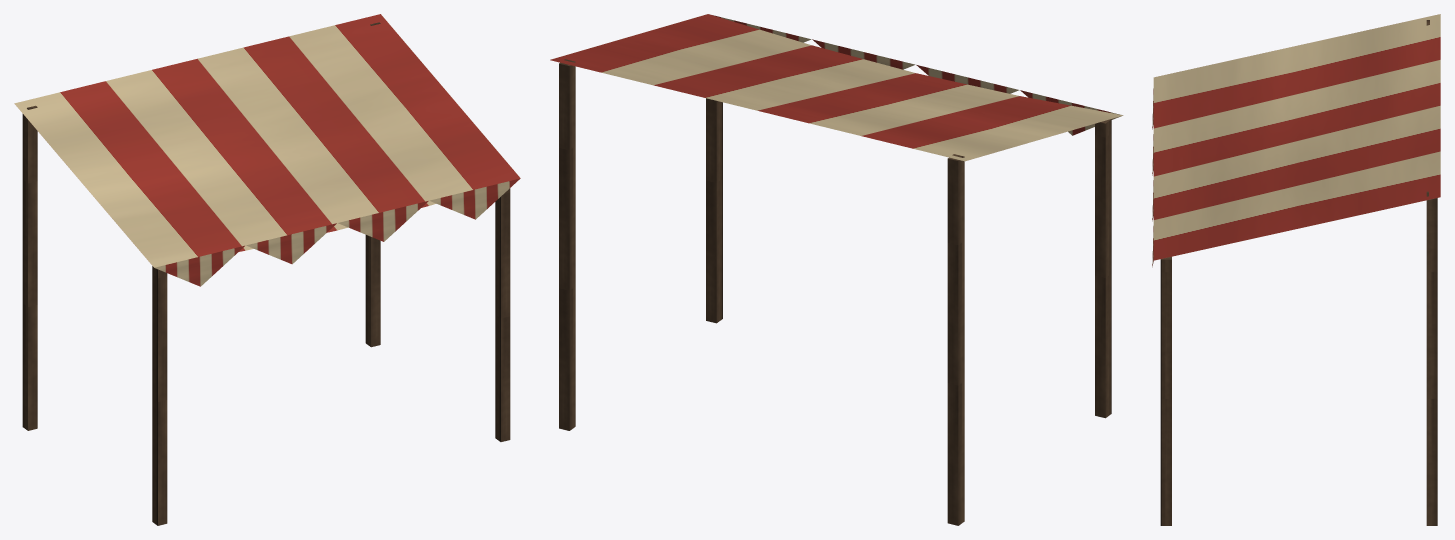
File: Awning_Striped_1_LOD1.gltf
3 renders of one model, left to right at view 1: azimuth 30°, elevation 25°; view 2: azimuth 150°, elevation 25°; view 3: azimuth 270°, elevation 25°, orthographic. The views are drawn at different scales.
Visible parts, largest first — view 1: Awning_Striped_1_LOD1; view 2: Awning_Striped_1_LOD1; view 3: Awning_Striped_1_LOD1.
Boxes of the visible parts, box(x1,y1,x2,y2) form: Awning_Striped_1_LOD1: box(14, 14, 520, 525); Awning_Striped_1_LOD1: box(550, 14, 1123, 525); Awning_Striped_1_LOD1: box(1152, 14, 1440, 525).
Size of the model in its own units: 3.1 by 2.62 by 2.06.
Materials: 2 (2 with a texture image).
